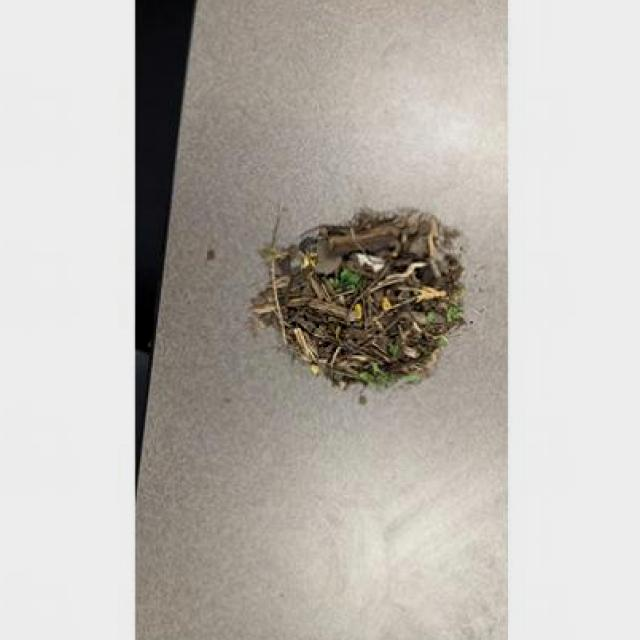dirt: (260, 236, 325, 326)
leaf: (360, 364, 425, 390), (332, 268, 360, 290)
